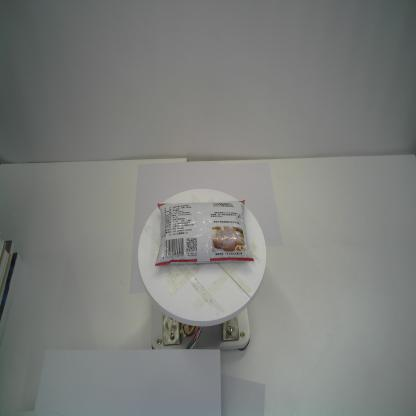Seasoner: (154, 195, 257, 268)
